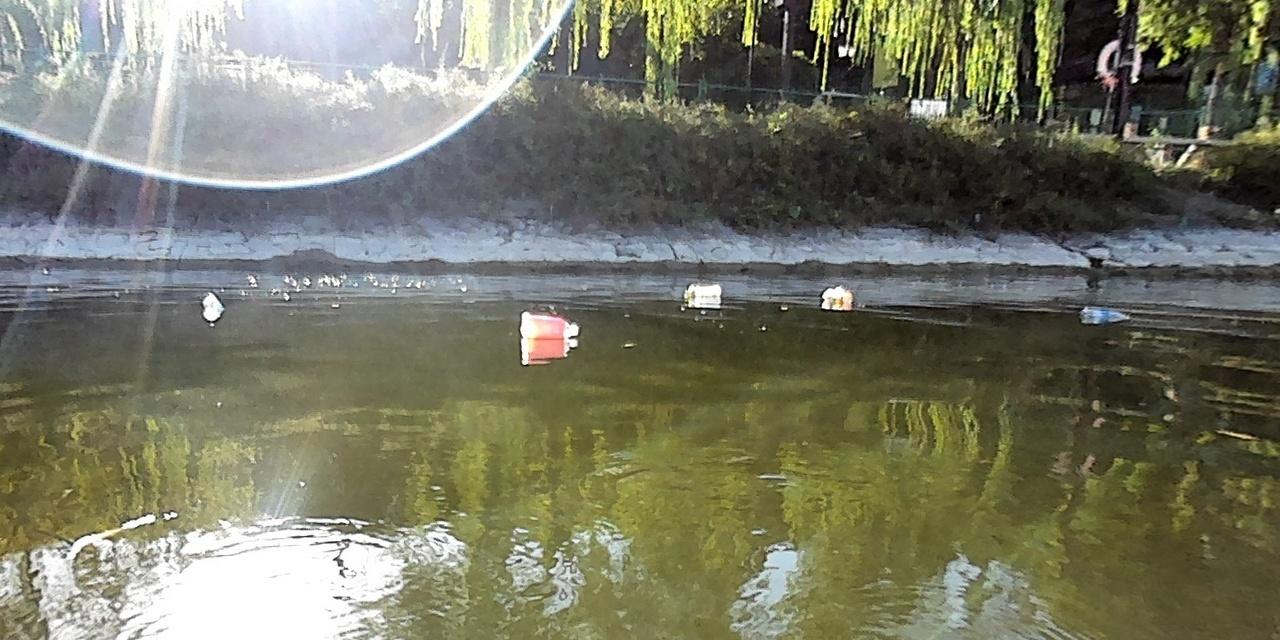bottle: (514, 309, 580, 336), (1078, 302, 1134, 324), (198, 287, 225, 315), (678, 282, 722, 299), (817, 285, 853, 304)
